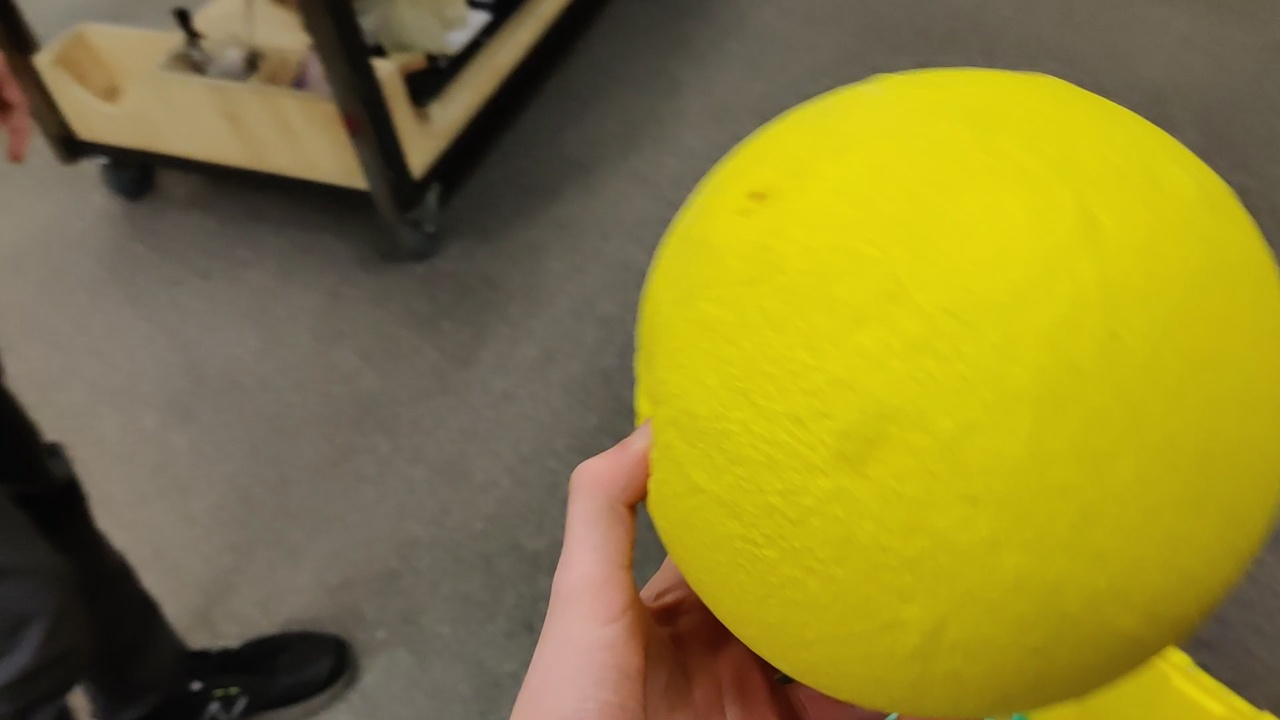Ball: (634, 61, 1280, 708)
